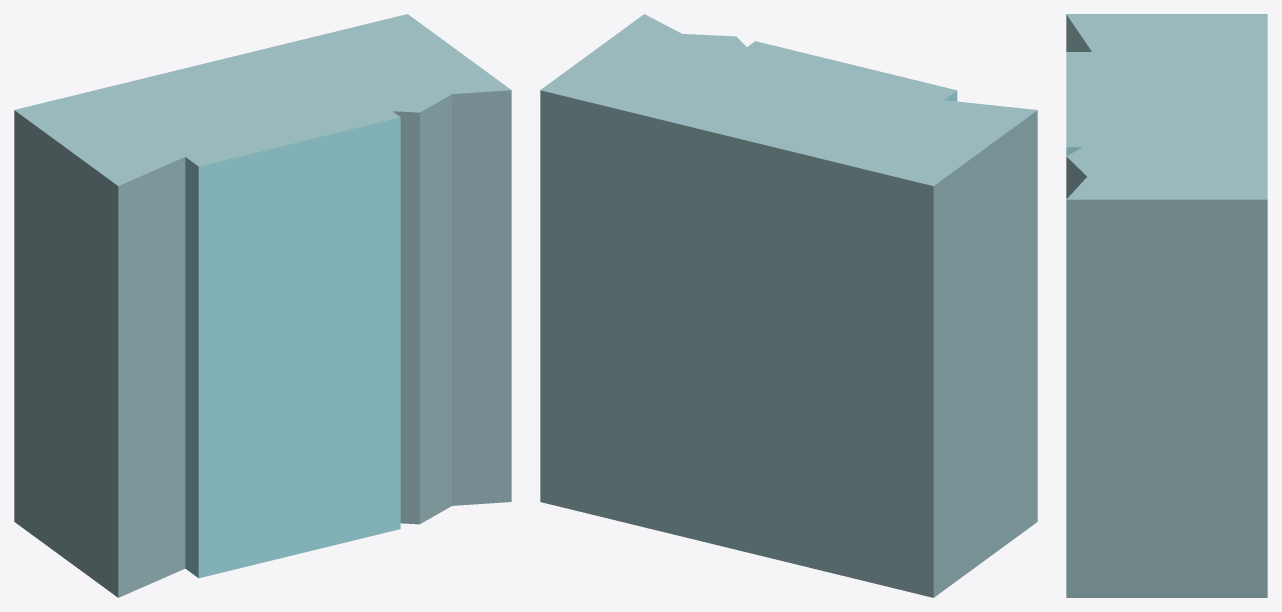
The model's file is cliffGrey_waterfallMid.fbx.
3 views of the same model, side by side, from view 1: azimuth 30°, elevation 25°; view 2: azimuth 150°, elevation 25°; view 3: azimuth 270°, elevation 25° (orthographic). The views are drawn at different scales.
Visible parts, largest first — view 1: cliffGrey_waterfallMid; view 2: cliffGrey_waterfallMid; view 3: cliffGrey_waterfallMid.
Part boxes in pixels (left/top/right/bottom): cliffGrey_waterfallMid: left=14, top=14, right=511, bottom=597; cliffGrey_waterfallMid: left=540, top=14, right=1037, bottom=597; cliffGrey_waterfallMid: left=1066, top=14, right=1267, bottom=597.
Size of the model in its own units: 10 by 10 by 4.58.
